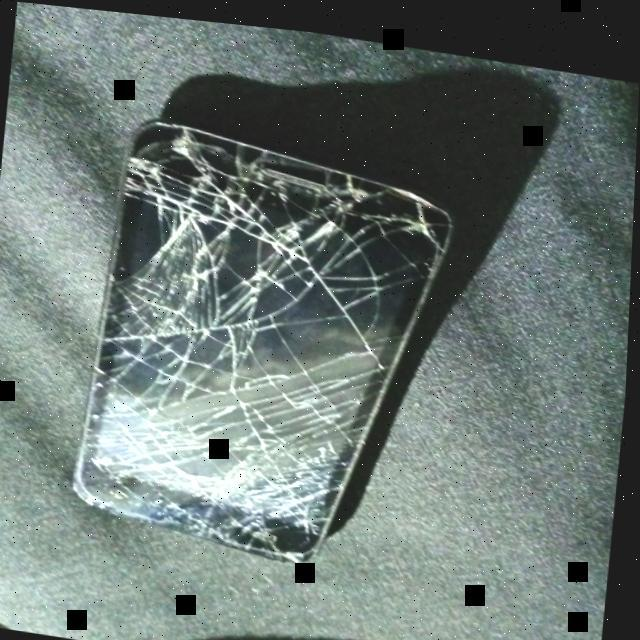Crack: (59, 99, 473, 603)
